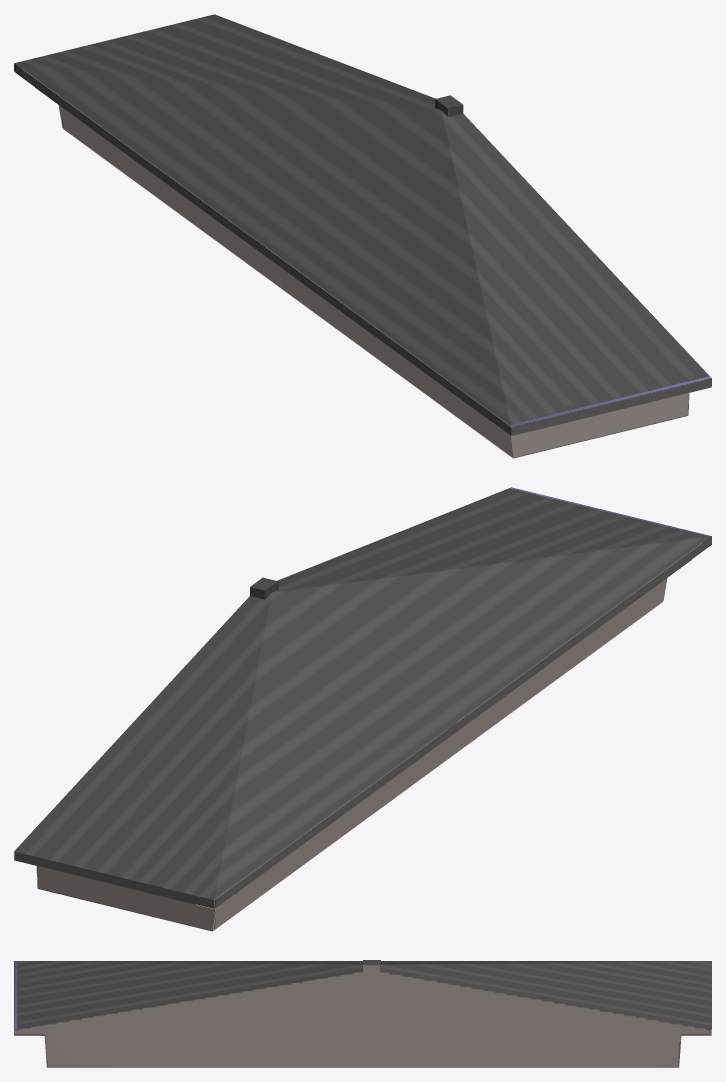
File: Rooftop_type1.FBX
The picture shows the model from 3 angles, top to bottom: view 1: azimuth 30°, elevation 25°; view 2: azimuth 150°, elevation 25°; view 3: azimuth 270°, elevation 25°; orthographic projection. The views are drawn at different scales.
Visible parts, largest first — view 1: Rooftop_type1_005; view 2: Rooftop_type1_005; view 3: Rooftop_type1_005.
Part boxes in pixels (<box>): Rooftop_type1_005: <box>14,14,711,458</box>; Rooftop_type1_005: <box>14,487,711,931</box>; Rooftop_type1_005: <box>14,960,711,1067</box>.
Bounding box in the file's own units: 812 × 566 × 3489.
Materials: 1 (1 with a texture image).
